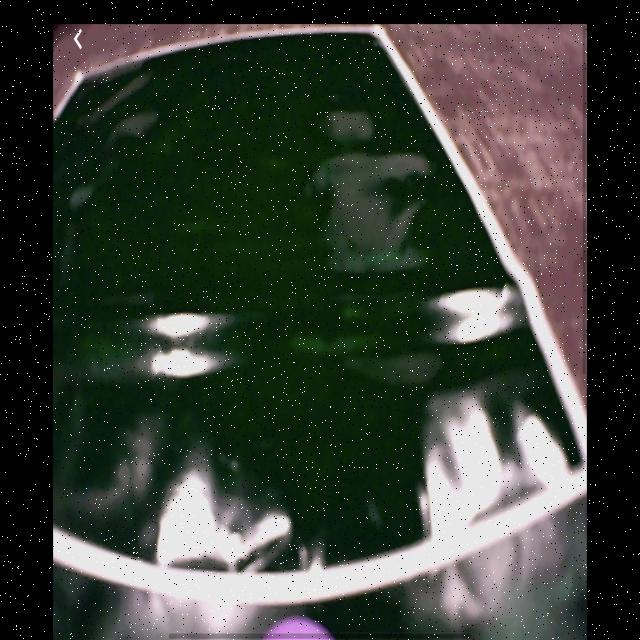ball: (262, 615, 336, 639)
